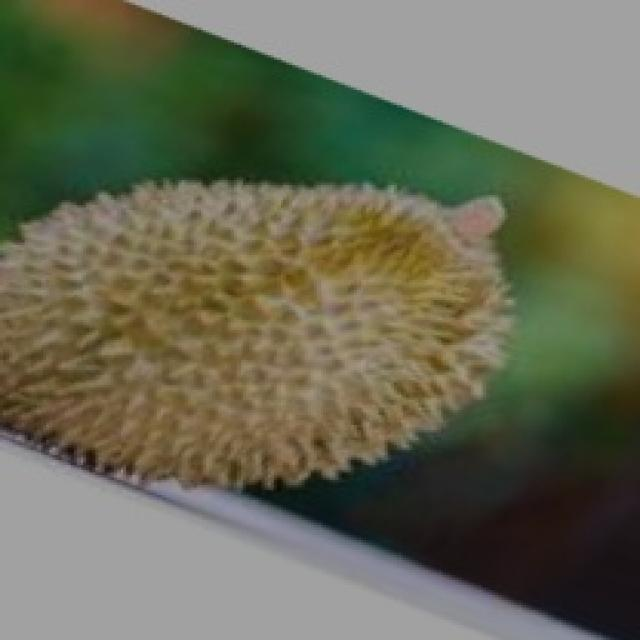fruit: (191, 145, 591, 573), (0, 218, 366, 570)
